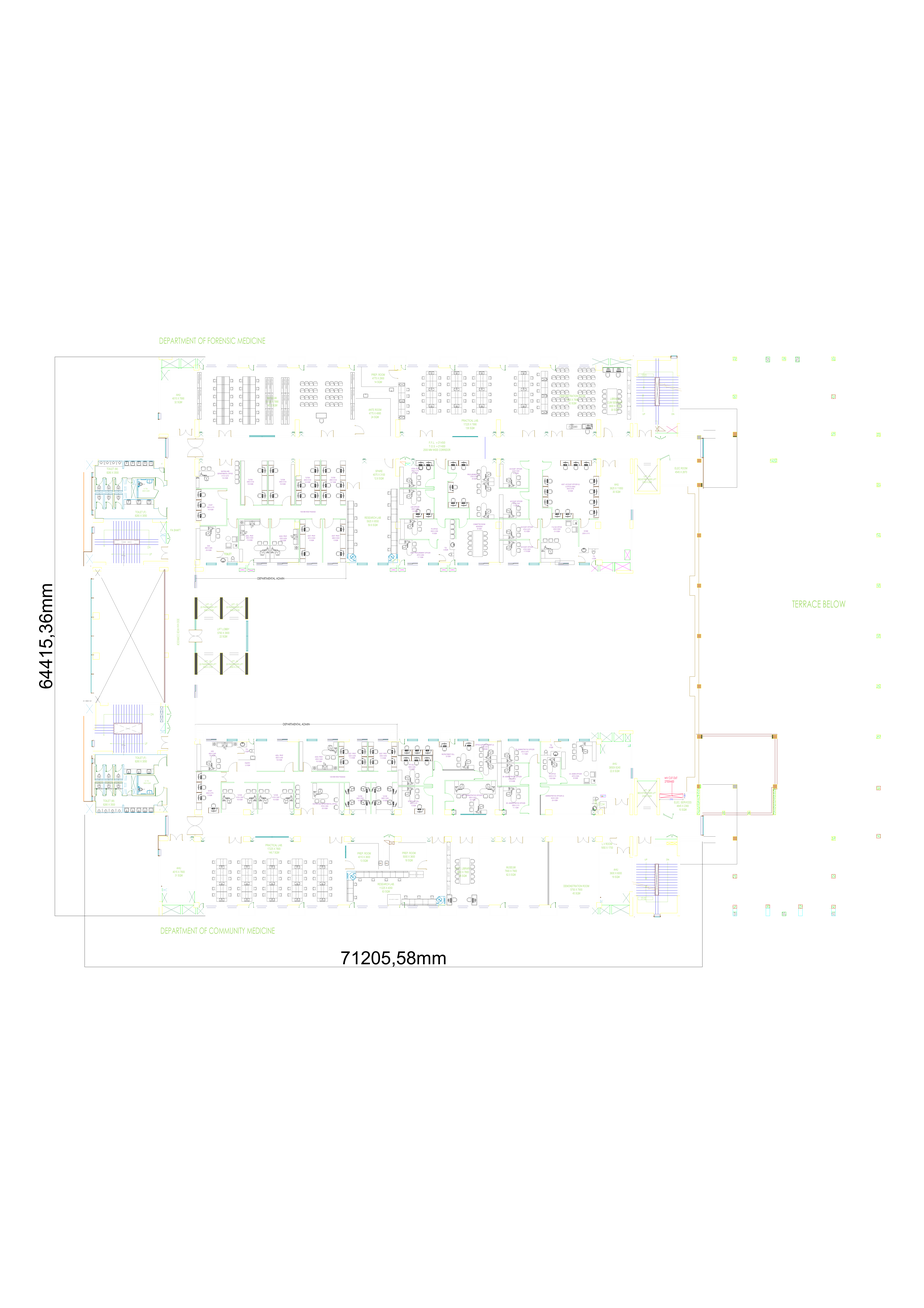door: (187, 438, 203, 458), (187, 816, 203, 835), (189, 630, 202, 642), (638, 836, 651, 844), (284, 762, 294, 772), (324, 518, 334, 528), (542, 461, 552, 471), (425, 489, 435, 499), (447, 472, 457, 482), (436, 459, 446, 469), (300, 808, 314, 815), (321, 430, 334, 437), (179, 429, 192, 436), (161, 736, 168, 749), (229, 836, 242, 843), (170, 834, 183, 841), (329, 836, 342, 843), (432, 836, 445, 843), (460, 836, 473, 843), (510, 836, 523, 843), (617, 847, 630, 854), (615, 798, 628, 805), (219, 459, 232, 466), (420, 430, 433, 437), (522, 430, 535, 437), (639, 430, 652, 437), (347, 482, 360, 489), (603, 460, 616, 467), (355, 425, 364, 435), (155, 477, 164, 487), (158, 507, 167, 517), (228, 762, 237, 772), (418, 860, 427, 870), (303, 762, 312, 772), (245, 496, 254, 506), (282, 496, 291, 506), (389, 369, 398, 379), (603, 428, 613, 437), (228, 518, 237, 528), (260, 518, 269, 528), (271, 518, 280, 528), (312, 518, 321, 528), (529, 539, 538, 549), (429, 539, 438, 549), (458, 519, 468, 528), (520, 460, 529, 470), (219, 430, 231, 437), (577, 836, 589, 843), (161, 547, 168, 559), (155, 787, 164, 796), (158, 757, 167, 766), (345, 860, 354, 869), (424, 787, 433, 796), (445, 793, 454, 802), (520, 805, 529, 814), (540, 786, 549, 795), (520, 776, 529, 785), (474, 770, 483, 779), (424, 776, 433, 785), (434, 761, 443, 770), (529, 754, 538, 763), (218, 490, 227, 499), (580, 519, 589, 528), (542, 519, 551, 528), (529, 519, 538, 528), (384, 459, 393, 468), (437, 519, 446, 528), (520, 491, 529, 500), (425, 478, 434, 487), (551, 431, 563, 437), (221, 772, 227, 782), (96, 788, 103, 796), (115, 788, 122, 796), (216, 551, 224, 558), (96, 478, 103, 485), (106, 478, 113, 485), (96, 502, 103, 509), (115, 502, 122, 509), (106, 765, 113, 772), (96, 765, 103, 772), (237, 747, 244, 754), (610, 838, 617, 845), (598, 807, 605, 814), (540, 777, 547, 784), (554, 741, 561, 748), (439, 554, 446, 561), (578, 556, 585, 563), (106, 788, 112, 796), (116, 478, 122, 485), (106, 502, 112, 509), (116, 765, 122, 772), (560, 777, 567, 783), (349, 365, 355, 371), (248, 902, 254, 908), (349, 902, 355, 908), (399, 902, 405, 908), (500, 902, 506, 908), (550, 902, 556, 908), (550, 365, 556, 371), (248, 559, 254, 565), (249, 365, 254, 371), (299, 365, 304, 371), (159, 467, 164, 473), (127, 790, 132, 796), (299, 902, 304, 908), (450, 365, 455, 371), (500, 365, 505, 371), (399, 560, 405, 565), (199, 365, 204, 370), (127, 478, 132, 483), (249, 739, 254, 744), (199, 903, 204, 908), (157, 801, 162, 806), (450, 739, 455, 744), (400, 739, 405, 744), (401, 365, 406, 370), (450, 560, 455, 565), (591, 560, 596, 565)
